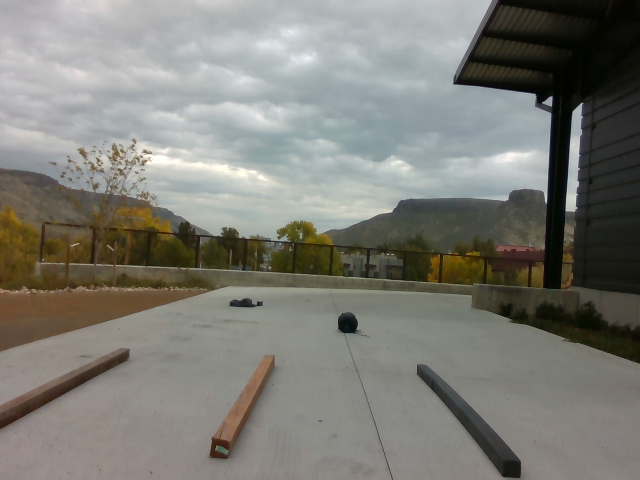dunnage: (0, 341, 526, 480)
